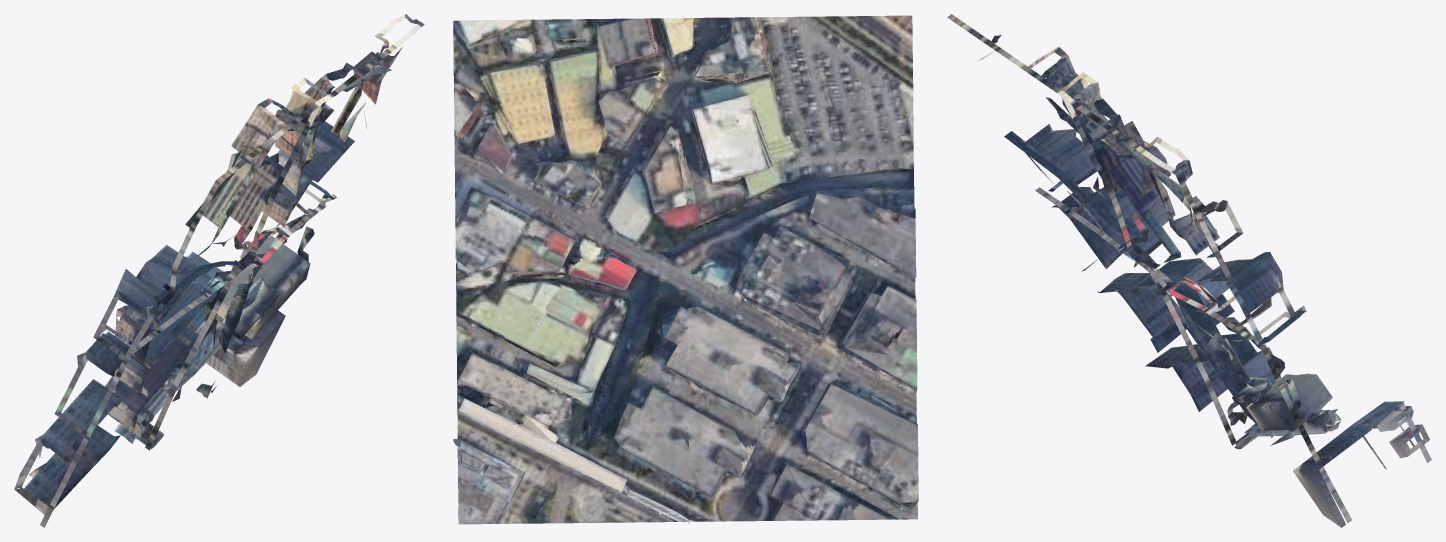
The picture shows the model from 3 angles, left to right: view 1: azimuth 30°, elevation 25°; view 2: azimuth 150°, elevation 25°; view 3: azimuth 270°, elevation 25°; orthographic projection. The views are drawn at different scales.
Size of the model in its own units: 316 by 289 by 308.
Materials: 1 (1 with a texture image).
